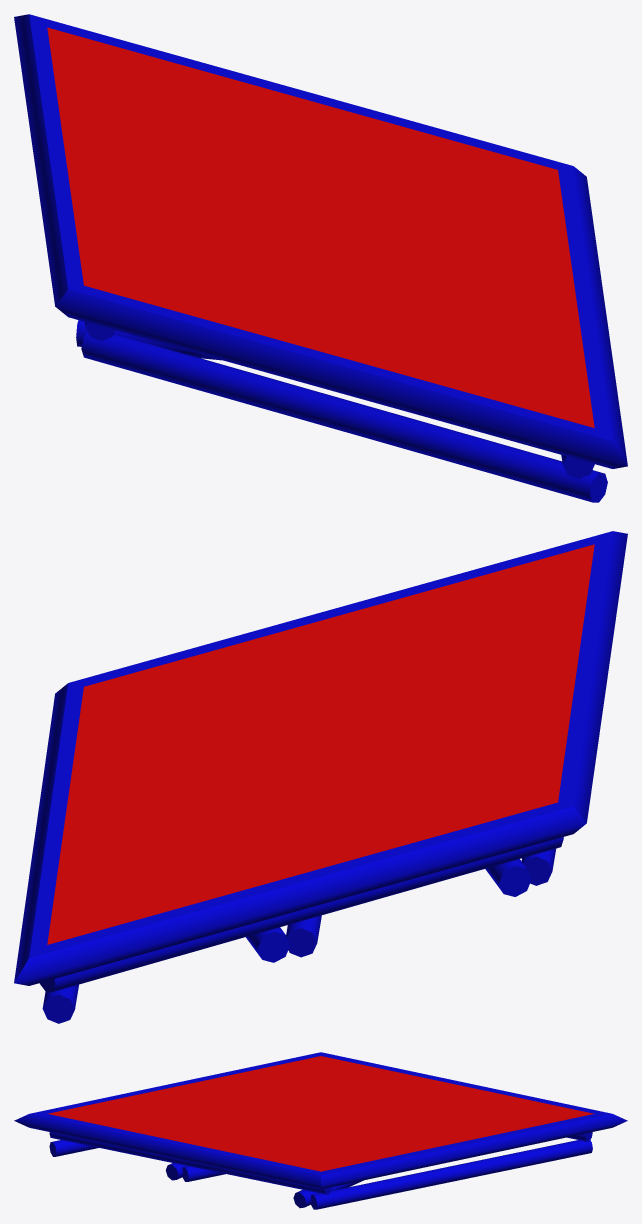
The model's file is LosanglePlatform.fbx.
3 renders of one model, top to bottom at view 1: azimuth 30°, elevation 25°; view 2: azimuth 150°, elevation 25°; view 3: azimuth 270°, elevation 25°, orthographic. The views are drawn at different scales.
Parts seen in each view (by area): view 1: LosanglePlatform; view 2: LosanglePlatform; view 3: LosanglePlatform.
Boxes of the visible parts, x1=… form: LosanglePlatform: x1=14, y1=14, x2=627, y2=502; LosanglePlatform: x1=14, y1=531, x2=627, y2=1023; LosanglePlatform: x1=14, y1=1052, x2=627, y2=1209.
Size of the model in its own units: 200 by 29.59 by 400.
